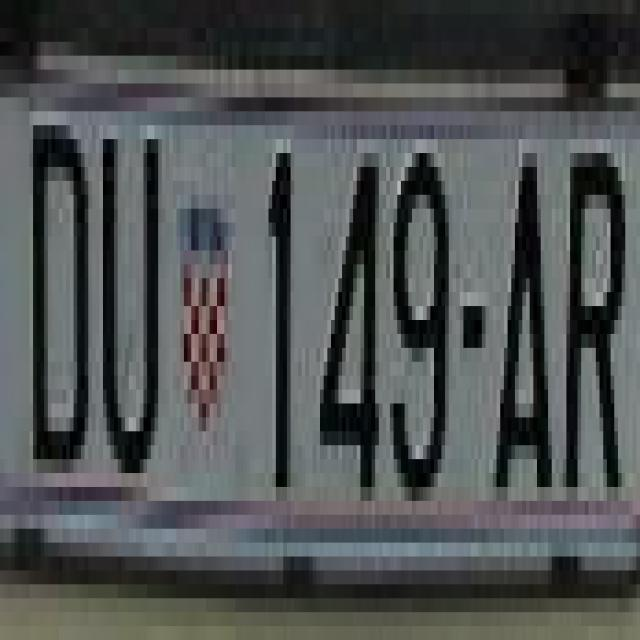1: (261, 125, 291, 529)
4: (316, 140, 379, 514)
9: (390, 139, 449, 487)
A: (486, 111, 548, 487)
D: (26, 97, 88, 487)
U: (96, 97, 154, 473)
